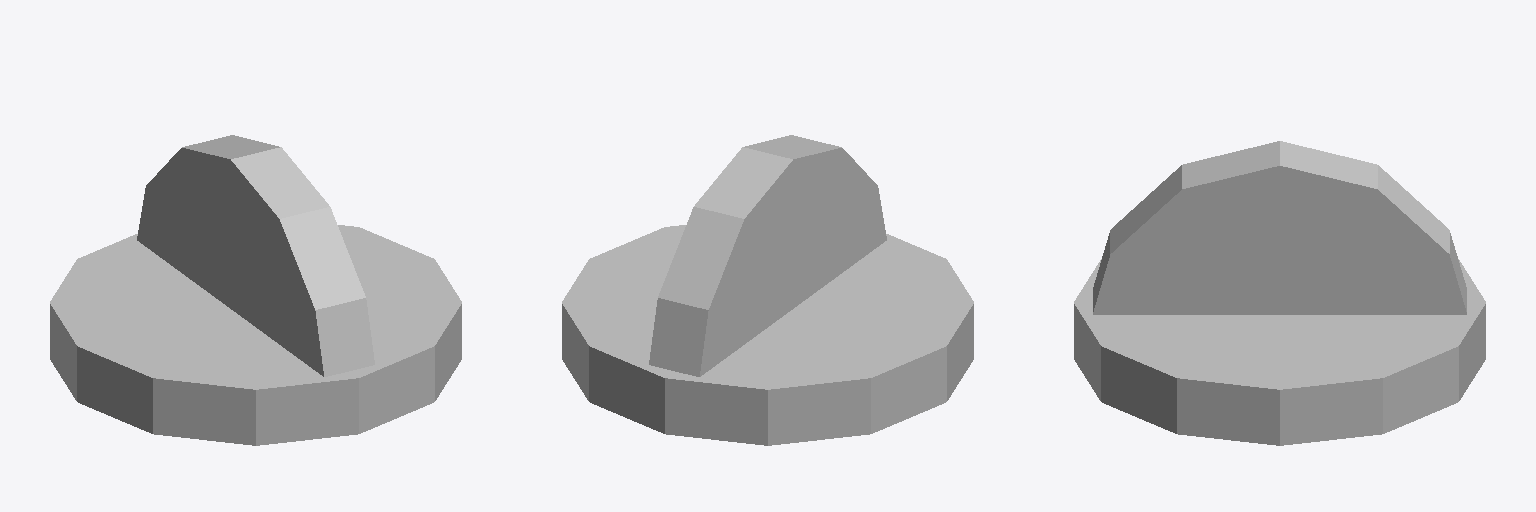
Rendered from tumami.obj.
3 renders of one model, left to right at view 1: azimuth 30°, elevation 25°; view 2: azimuth 150°, elevation 25°; view 3: azimuth 270°, elevation 25°, orthographic.
Parts seen in each view (by area): view 1: tumami_円柱.001; view 2: tumami_円柱.001; view 3: tumami_円柱.001.
Part boxes in pixels (bbox=[...]): tumami_円柱.001: bbox=[50, 135, 461, 445]; tumami_円柱.001: bbox=[562, 135, 973, 445]; tumami_円柱.001: bbox=[1074, 141, 1485, 445].
Bounding box in the file's own units: 1.4 × 0.7689 × 1.4.